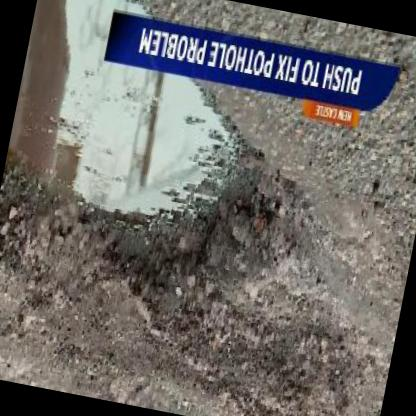pothole: (0, 0, 350, 353)
